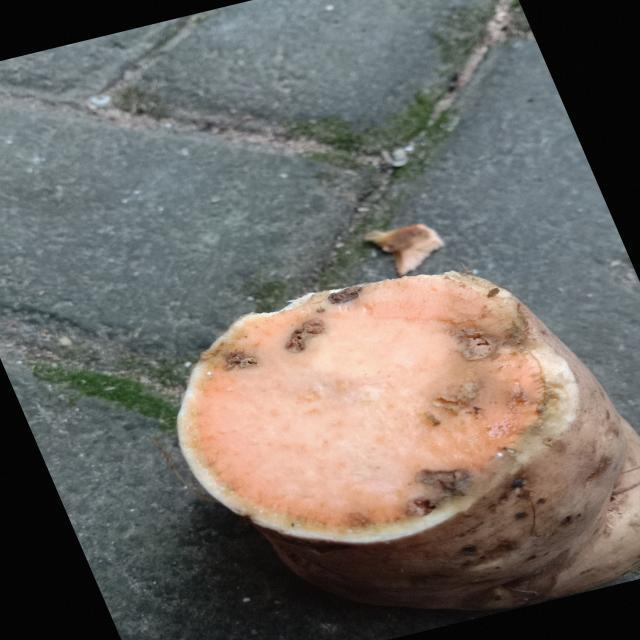Sick Sweet Potato_Tuber Rot: (192, 274, 545, 526)
